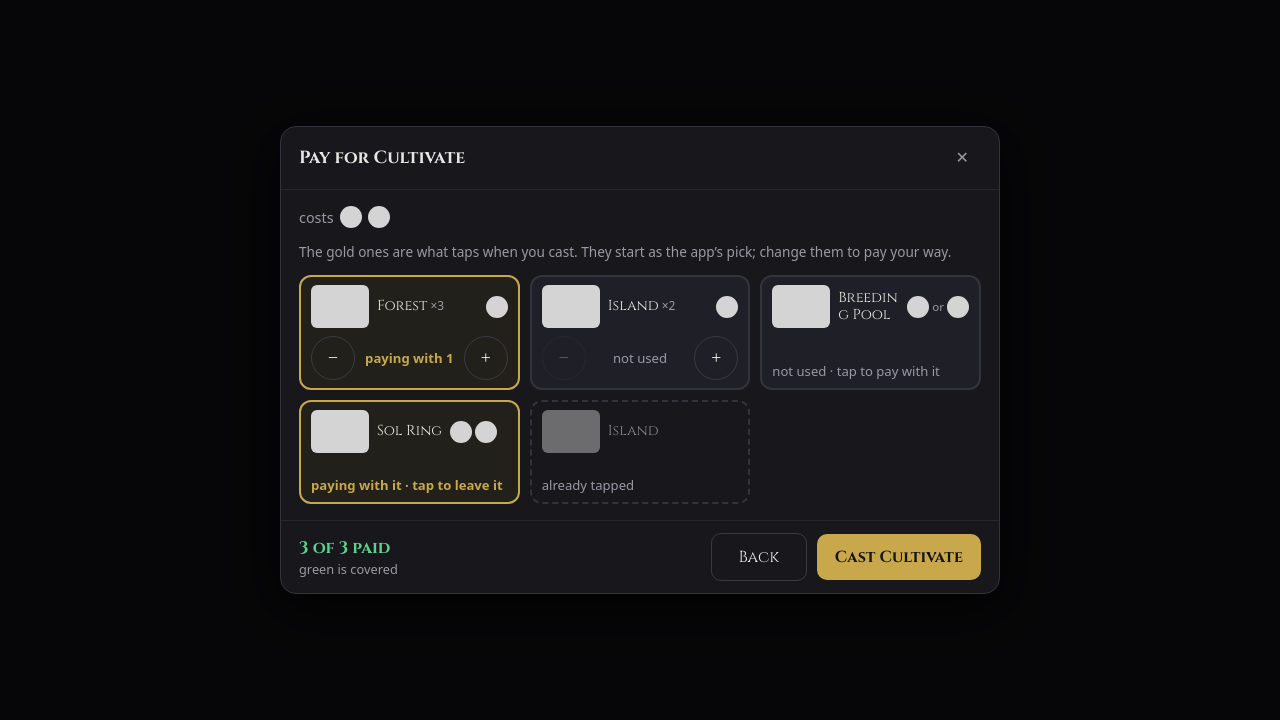
it: one too many is said; taking it off again is one press
Expected: the button with aria-label "pay with Sol Ring" is shown, 299,400 -> 520,504
Click the button named "one more Island". click: {"x": 716, "y": 358}
box: 694,336 -> 738,380
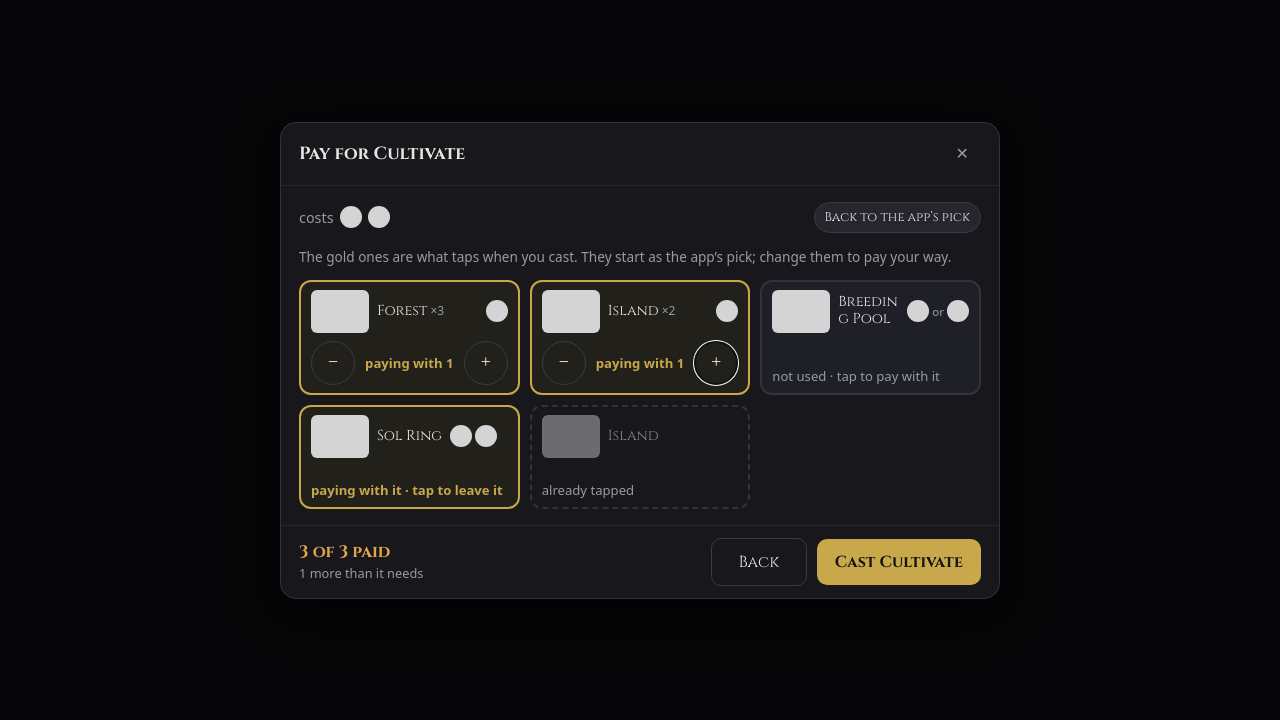
Now the element showing "3 of 3 paid 1 more than it needs" is shown, box 299,541 -> 424,582
Click the button named "one fewer Island". click: {"x": 564, "y": 362}
box: 542,340 -> 586,384
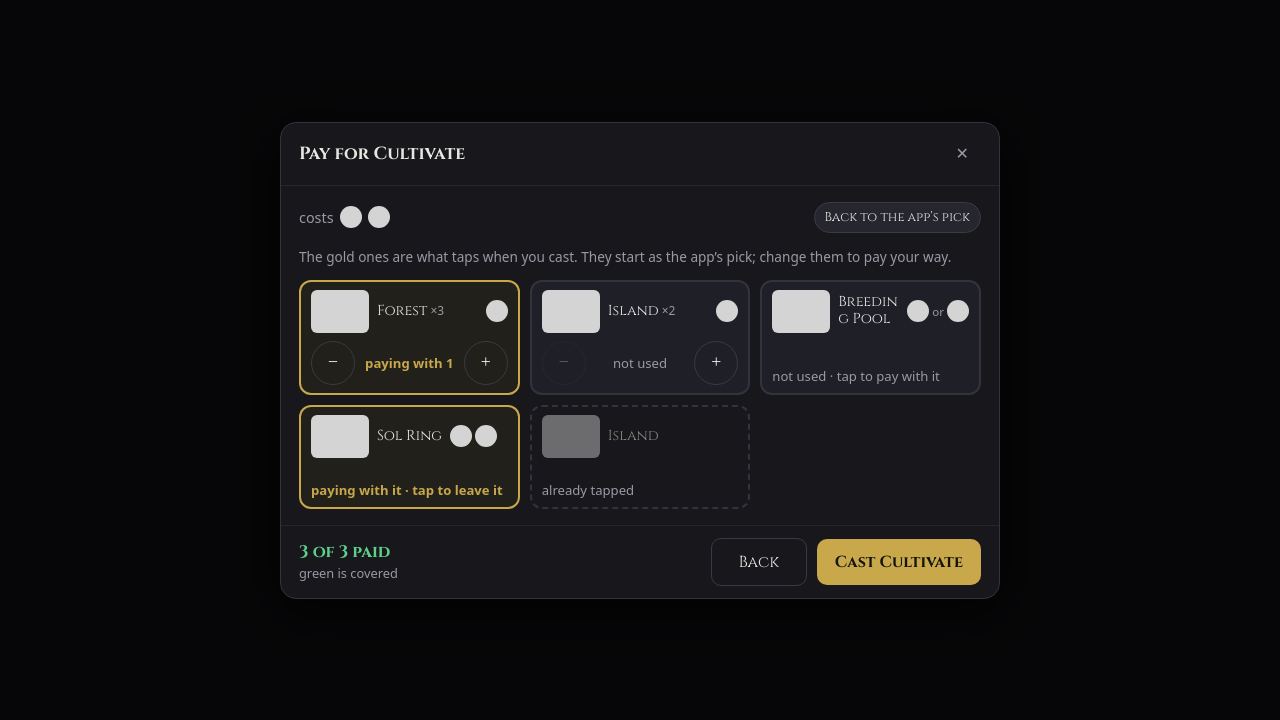
Now the element showing "3 of 3 paid green is covered" is shown, box 299,541 -> 398,582
